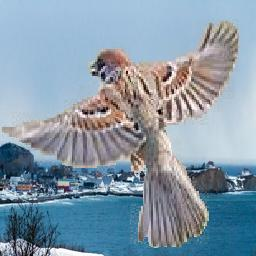Sparrow: (3, 20, 240, 249)
